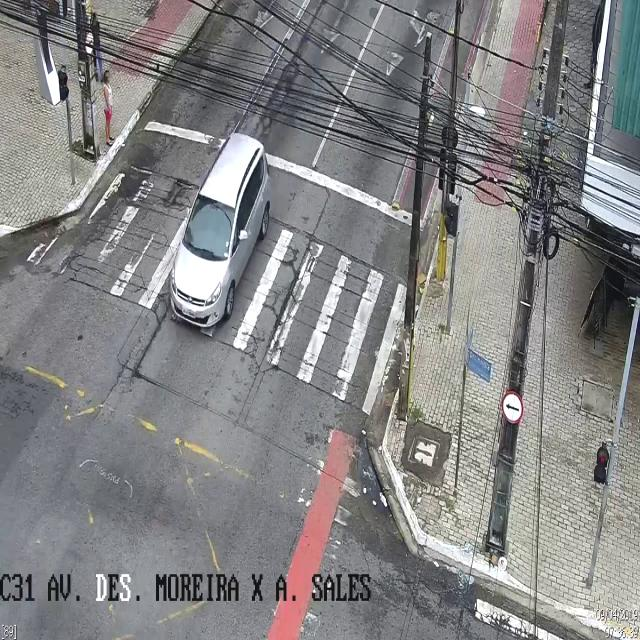Car: (168, 133, 270, 327)
